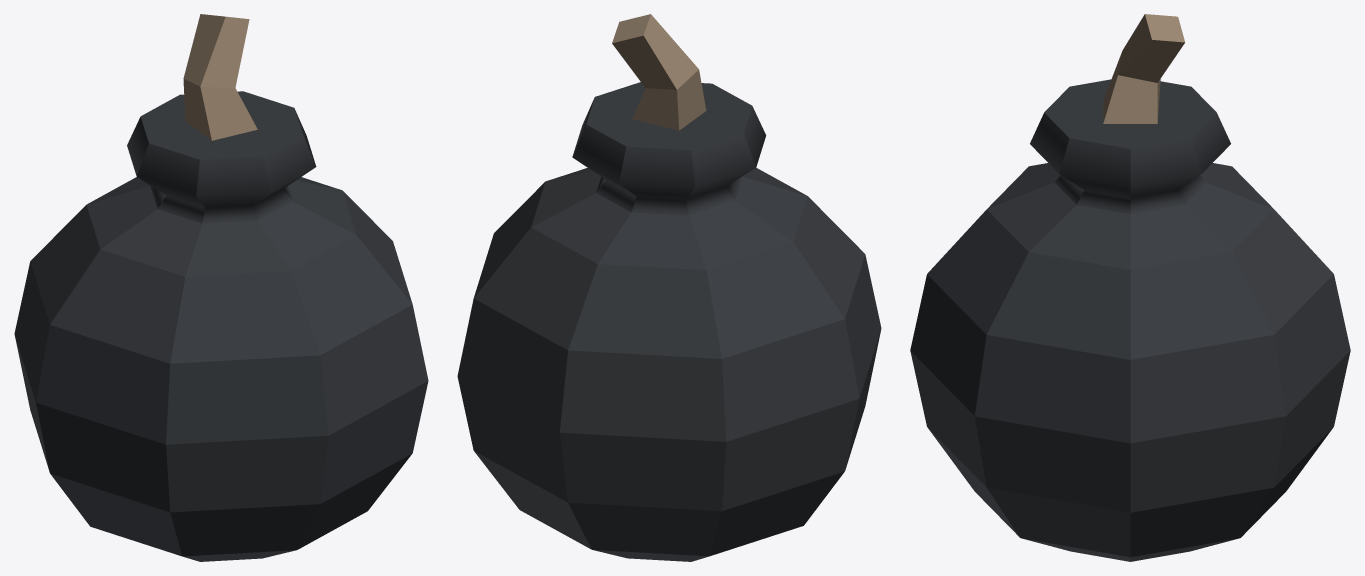
The model's file is SM_Prop_Bomb_01.fbx.
3 renders of one model, left to right at view 1: azimuth 30°, elevation 25°; view 2: azimuth 150°, elevation 25°; view 3: azimuth 270°, elevation 25°, orthographic. The views are drawn at different scales.
Visible parts, largest first — view 1: SM_Prop_Bomb_01; view 2: SM_Prop_Bomb_01; view 3: SM_Prop_Bomb_01.
Boxes of the visible parts, bbox=[...] form: SM_Prop_Bomb_01: bbox=[14, 14, 428, 561]; SM_Prop_Bomb_01: bbox=[457, 14, 881, 561]; SM_Prop_Bomb_01: bbox=[910, 14, 1350, 561].
Bounding box in the file's own units: 50.29 × 66.83 × 50.29.
